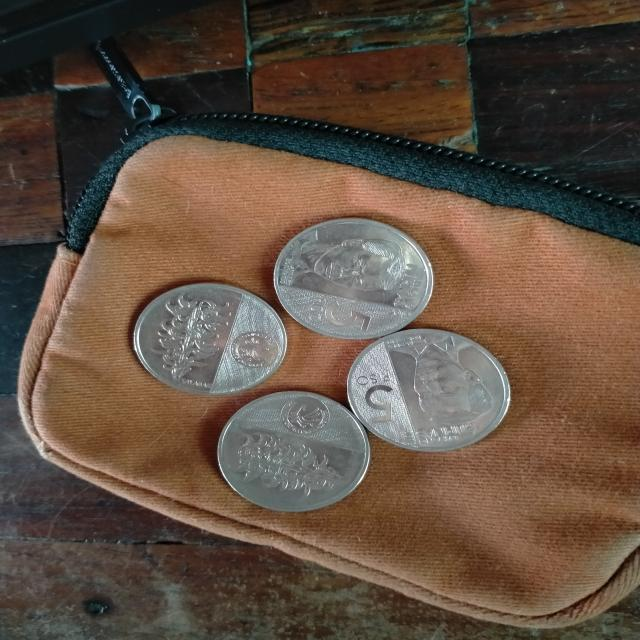5_New_Back: (224, 422, 351, 506), (142, 284, 235, 387)
5_New_Front: (304, 294, 377, 345), (346, 373, 404, 426)
